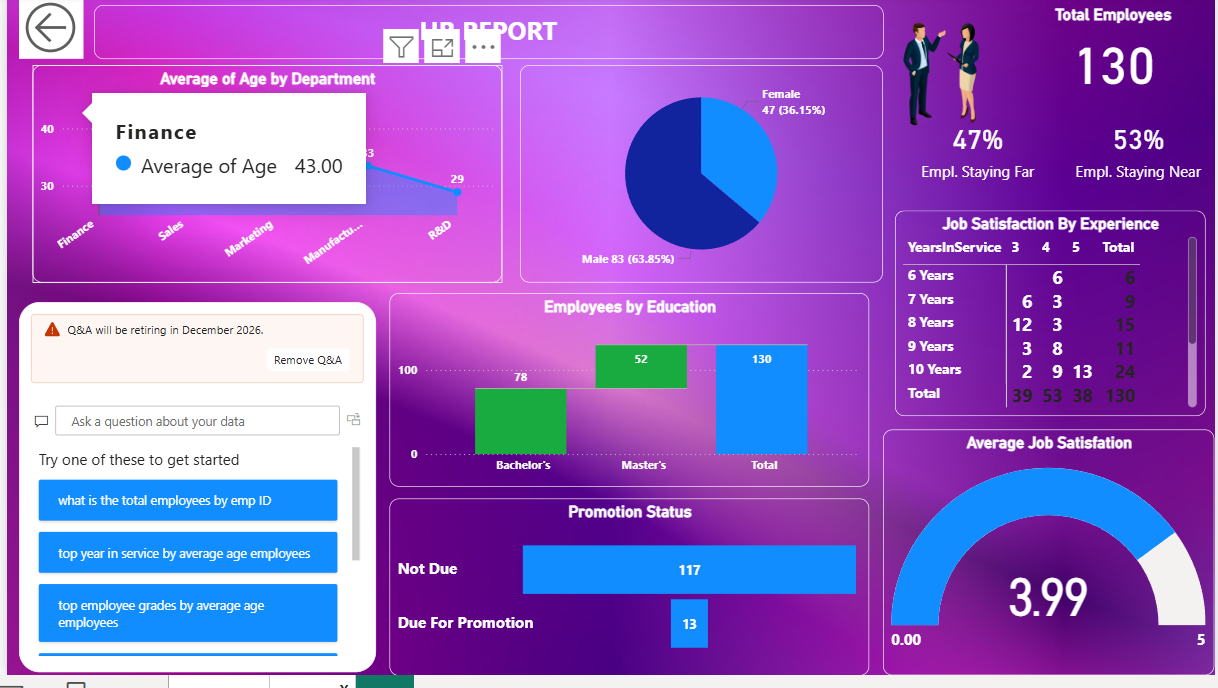

What the dashboard file says about the page in this screenshot:
{"tool":"powerbi","page":{"name":"HR","canvas":[1280,720],"ordinal":1},"visuals":[{"type":"textbox","box":[92,10,837,57],"z":0},{"type":"actionButton","box":[12.7,0,68.4,66.8],"z":1000},{"type":"areaChart","fields":{"Category":["HR.Department"],"Y":["Avg(HR.Age)"]},"box":[27,73.2,497.9,230.6],"z":2000},{"type":"pieChart","fields":{"Series":["HR.Gender"],"Y":["HR.TotalEmployees"]},"box":[544,73.2,384.9,230.6],"z":3000},{"type":"image","box":[928.9,9.5,128.8,146.3],"z":4000},{"type":"card","title":"Total Employees","fields":{"Values":["HR.TotalEmployees"]},"box":[1075.3,9.5,195.6,100.2],"z":5000},{"type":"card","fields":{"Values":["HR.%DistanceFar"]},"box":[951.2,90.7,155.9,146.3],"z":6000},{"type":"card","fields":{"Values":["HR.%DistanceNear"]},"box":[1118.2,90.7,162.2,146.3],"z":7000},{"type":"pivotTable","title":"Job Satisfaction By Experience","fields":{"Rows":["HR.YearsInService"],"Columns":["HR.JobSatisfation"],"Values":["HR.TotalEmployees"]},"box":[941.6,227.5,329.3,217.9],"z":8000},{"type":"gauge","title":"Average Job Satisfation","fields":{"Y":["HR.AverageJobSatisfaction"],"MaxValue":["Max(HR.JobSatisfation)"]},"box":[928.9,459.7,351.5,260.9],"z":9000},{"type":"waterfallChart","title":"Employees by Education","fields":{"Category":["HR.Education"],"Y":["HR.TotalEmployees"]},"box":[405.6,314.9,509,205.2],"z":10000},{"type":"funnel","title":"Promotion Status","fields":{"Category":["HR.PromotionStatus"],"Y":["HR.TotalEmployees"]},"box":[405.6,532.9,509,187.7],"z":11000},{"type":"qnaVisual","box":[12.7,324.5,378.6,392.9],"z":12000}]}

Visuals, with their boxes in screenshot pixels (x1, y1, x2, y2), scaled from the page's 1280x720 canvas onto the 1218x688 screenshot:
textbox: <box>88,10,884,64</box>
actionButton: <box>12,0,77,64</box>
areaChart - HR.Department x Avg(HR.Age): <box>26,70,499,290</box>
pieChart - HR.Gender x HR.TotalEmployees: <box>518,70,884,290</box>
image: <box>884,9,1006,149</box>
"Total Employees" card: <box>1023,9,1209,105</box>
card - HR.%DistanceFar: <box>905,87,1053,226</box>
card - HR.%DistanceNear: <box>1064,87,1217,226</box>
"Job Satisfaction By Experience" pivotTable: <box>896,217,1209,426</box>
"Average Job Satisfation" gauge: <box>884,439,1217,687</box>
"Employees by Education" waterfallChart: <box>386,301,870,497</box>
"Promotion Status" funnel: <box>386,509,870,687</box>
qnaVisual: <box>12,310,372,686</box>
